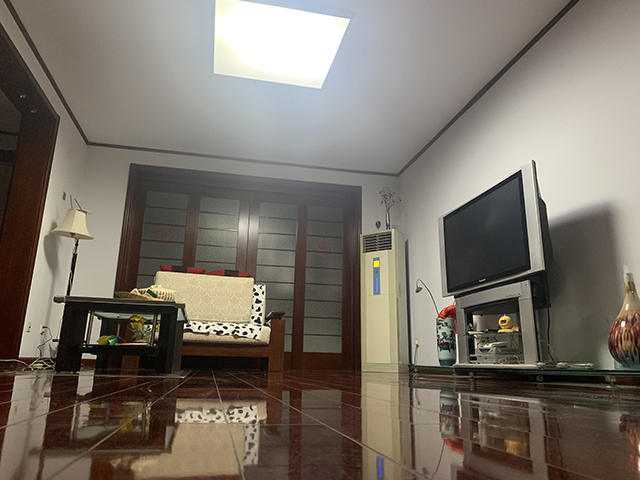cabinet: (407, 280, 640, 389)
sofa: (118, 262, 287, 374)
table: (51, 295, 191, 374)
wire: (1, 315, 61, 372)
